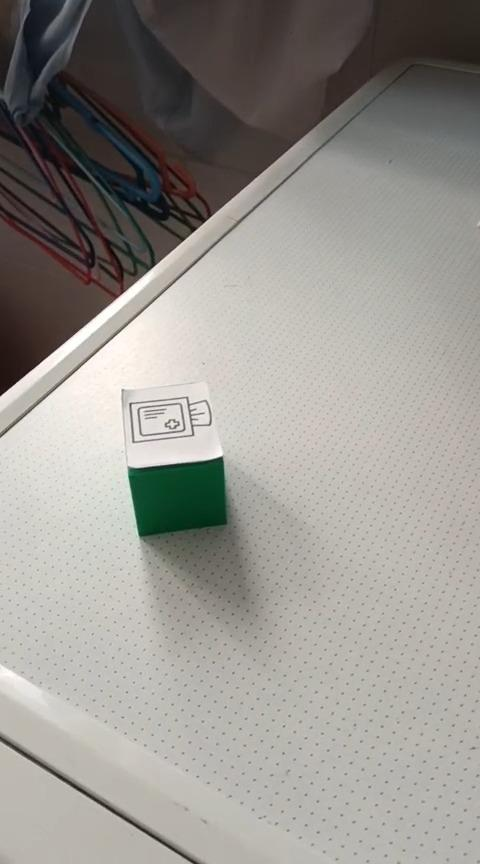Gauze: (119, 379, 228, 537)
